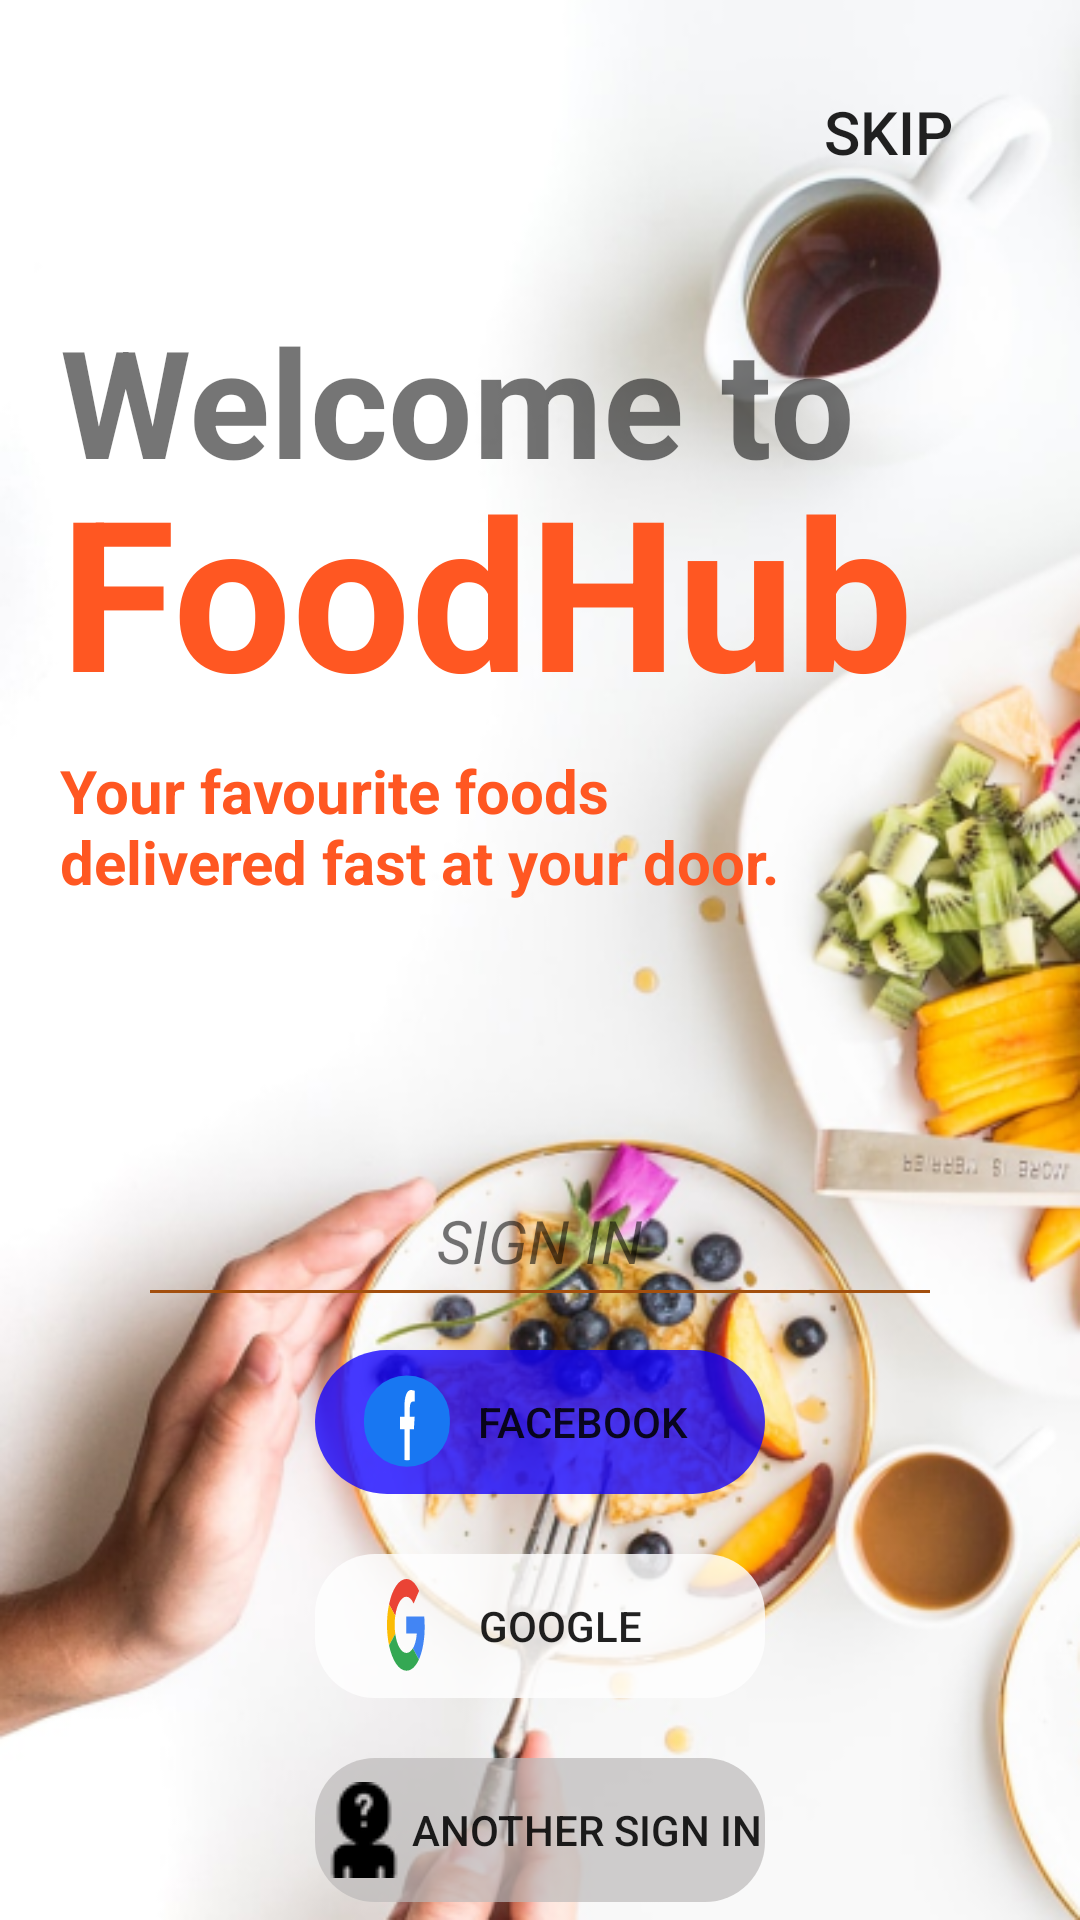

Where to tap for icons on this 1080 x 1920 app screen, as (x,y):
mistery: (364,1830)
